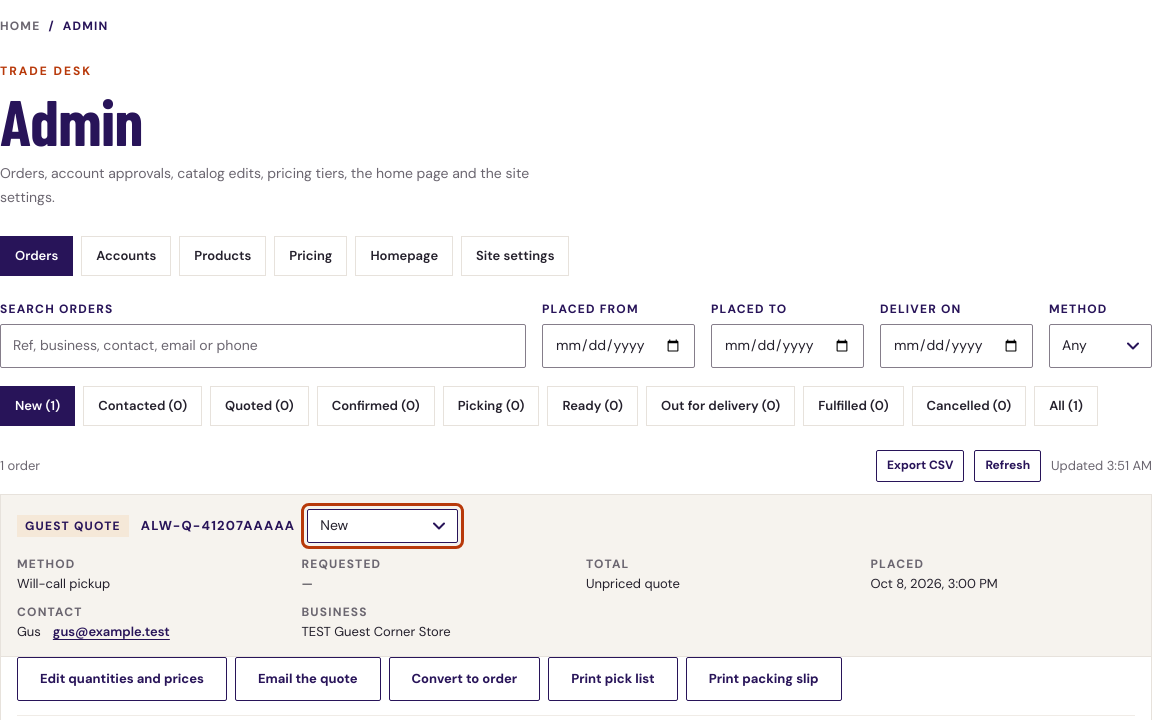
cancelling an order › Escape keeps the order and gives the select its focus and its value back
The image size is (1152, 720).
Select "Cancelled" in the dropdown named "Status for ALW-Q-41207AAAAA" at coordinates (383, 526), box [307,509,458,543]
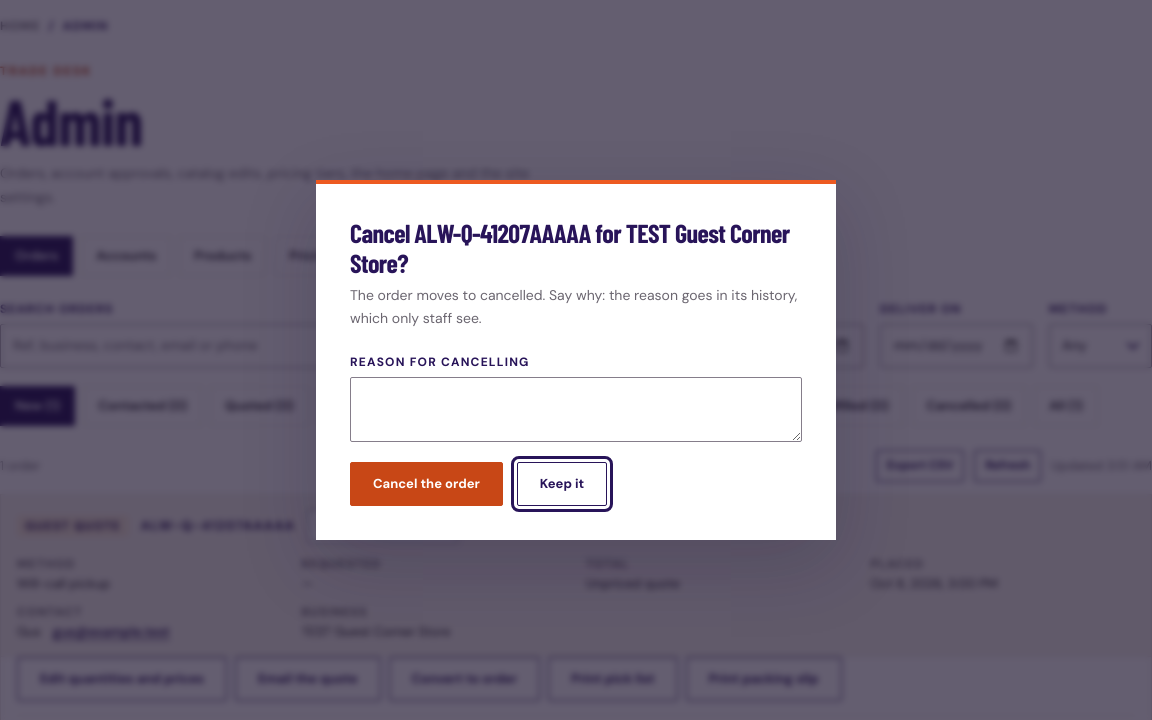
Press Escape
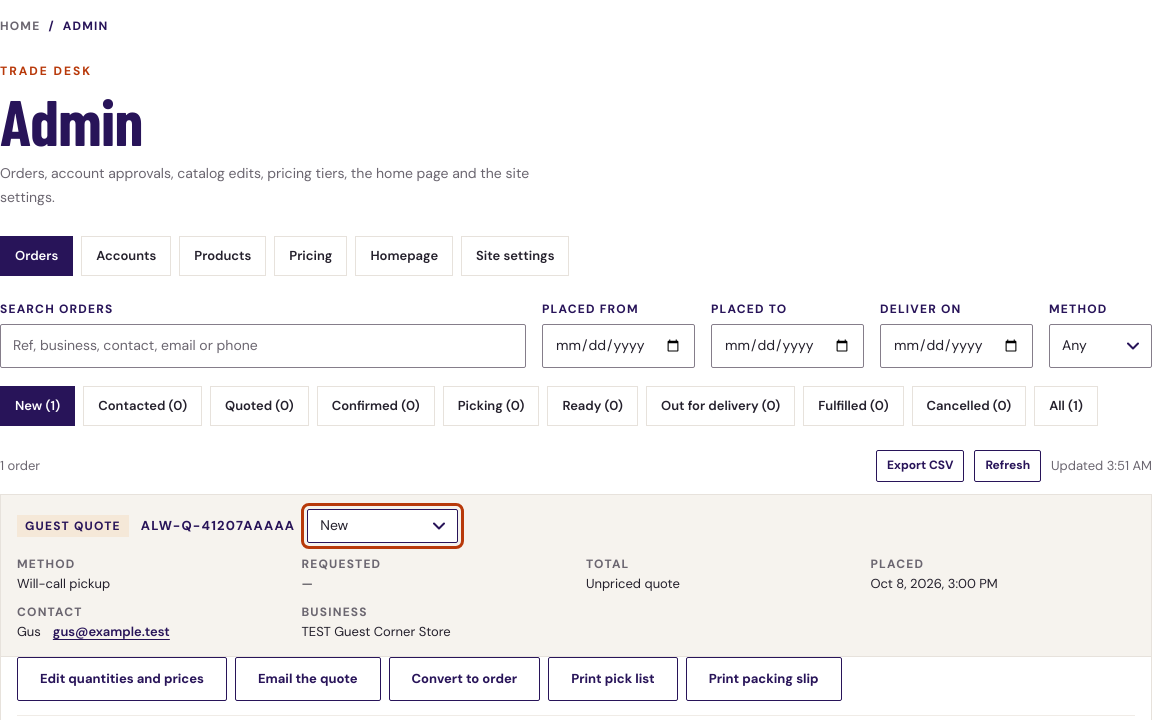
Check: the dialog is gone
